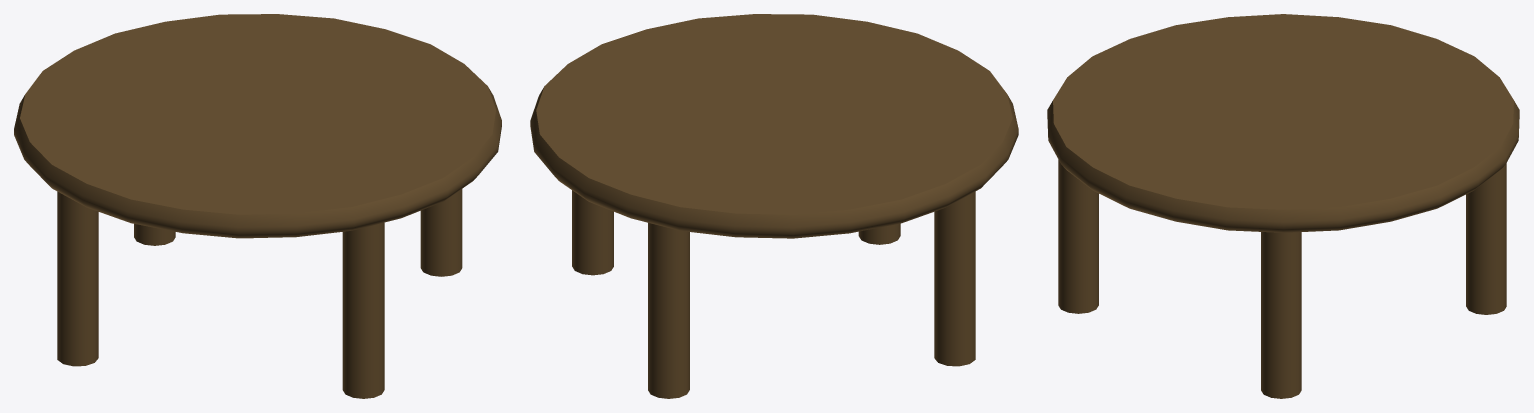
The model's file is RoundTable.fbx.
The picture shows the model from 3 angles, left to right: view 1: azimuth 30°, elevation 25°; view 2: azimuth 150°, elevation 25°; view 3: azimuth 270°, elevation 25°; orthographic projection. The views are drawn at different scales.
Visible parts, largest first — view 1: RoundTable; view 2: RoundTable; view 3: RoundTable.
Boxes of the visible parts, <box> form: RoundTable: <box>14,14,501,398</box>; RoundTable: <box>530,14,1018,398</box>; RoundTable: <box>1047,14,1519,398</box>.
Bounding box in the file's own units: 176 × 79.15 × 175.
